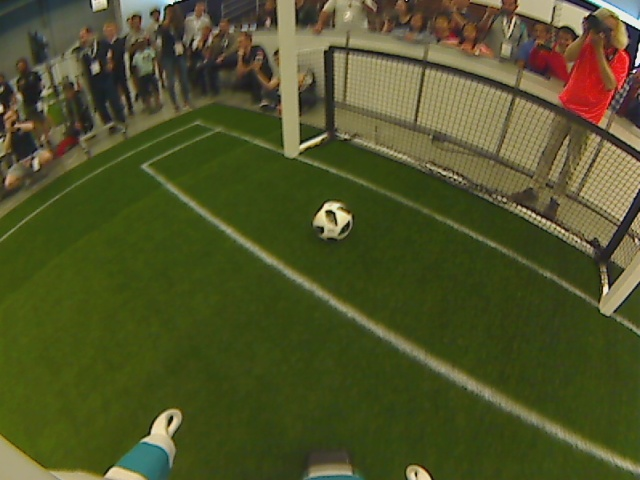ball: (312, 199, 355, 240)
